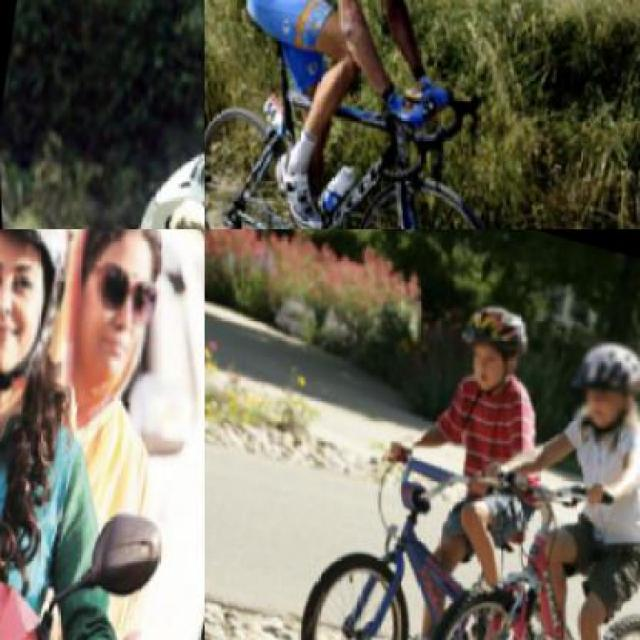With Helmet: (0, 229, 94, 422), (445, 278, 541, 396), (558, 316, 638, 432)
Without Helmet: (44, 229, 174, 400)
